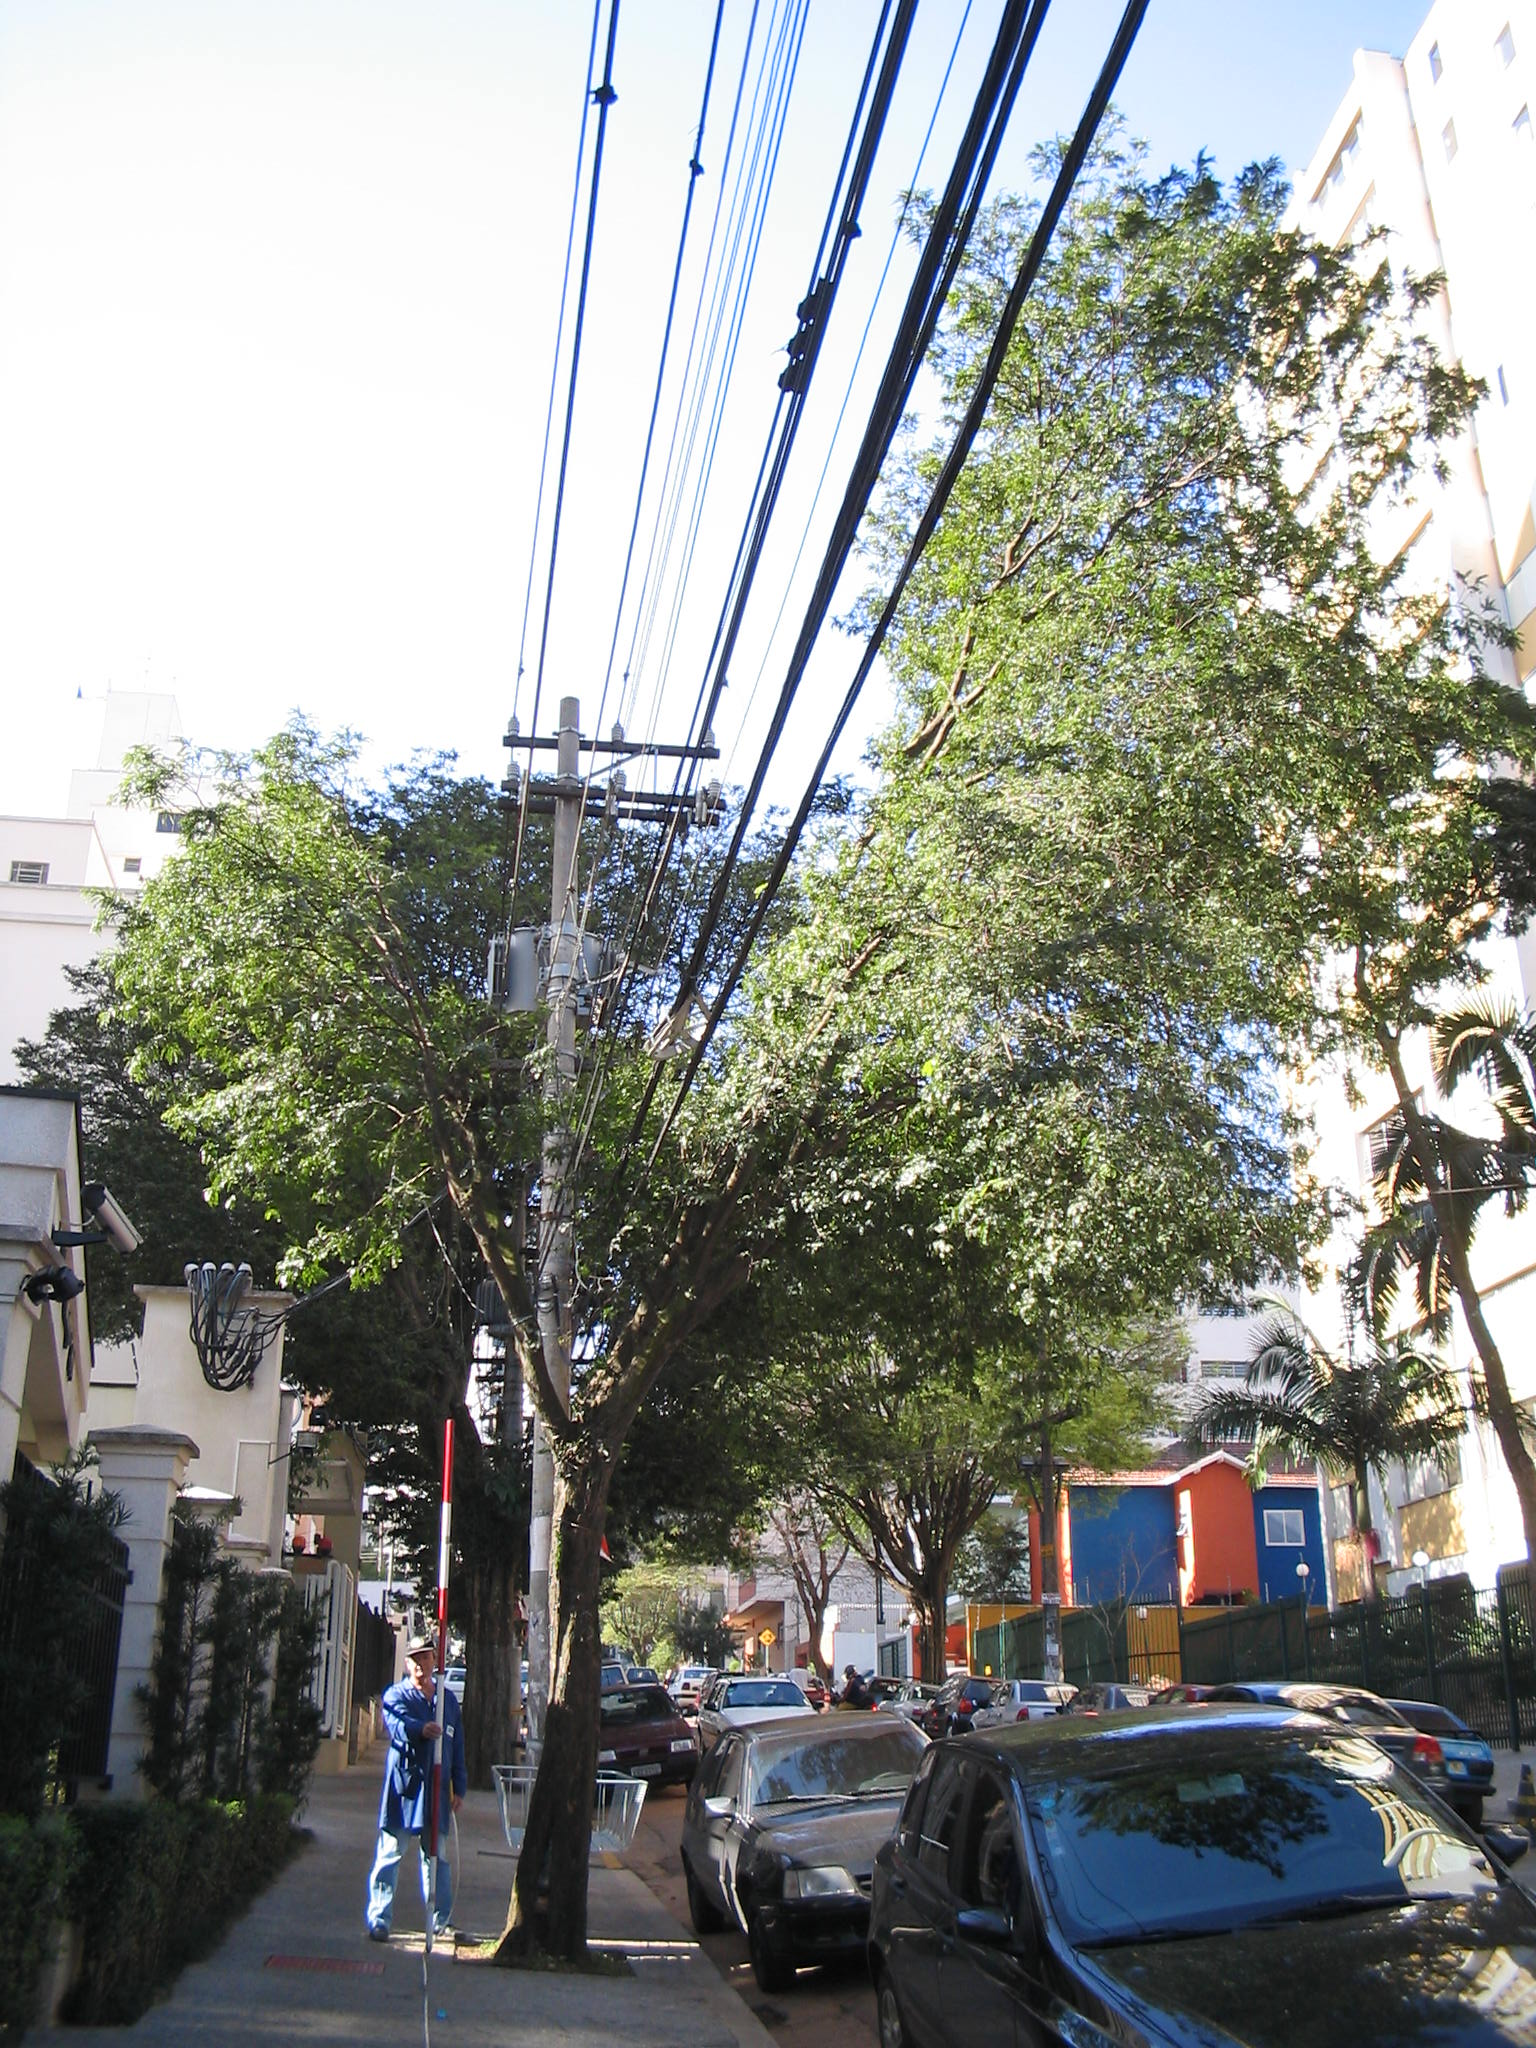crown: (44, 155, 1533, 1487)
stem: (487, 1461, 650, 1961)
stick: (408, 1421, 473, 1953)
tree: (40, 158, 1534, 1954)
